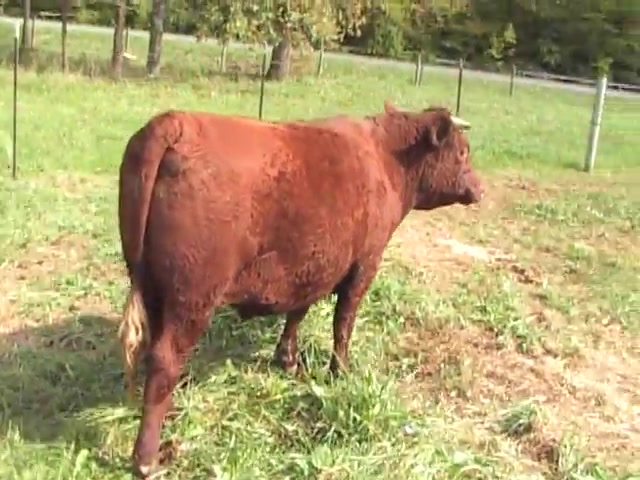cow: (116, 105, 485, 480)
